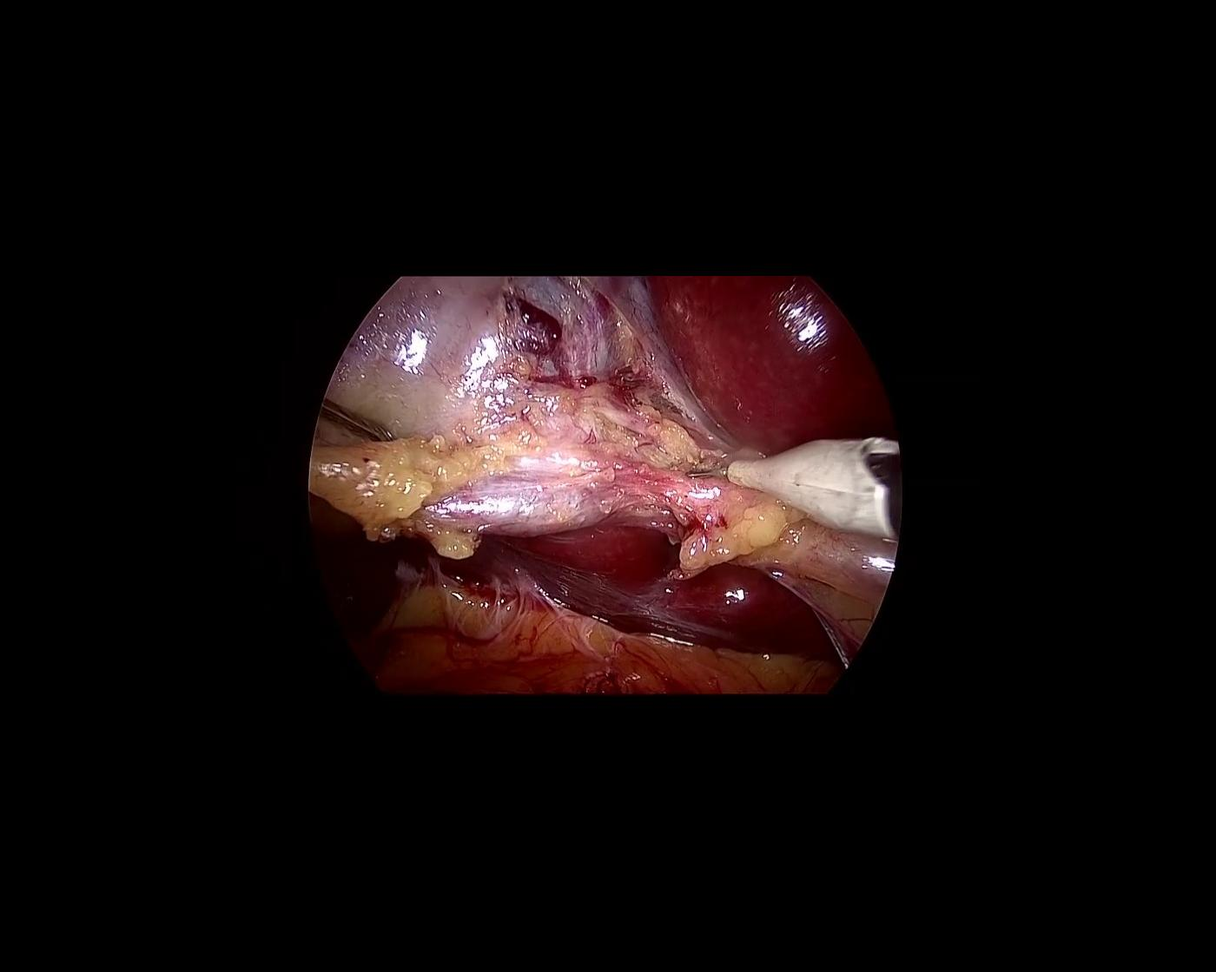Cautery: (682, 425, 905, 541)
Forceps: (310, 395, 402, 474)
Gallbladder: (295, 263, 709, 565)
Liver: (294, 493, 844, 679), (648, 257, 900, 466)
